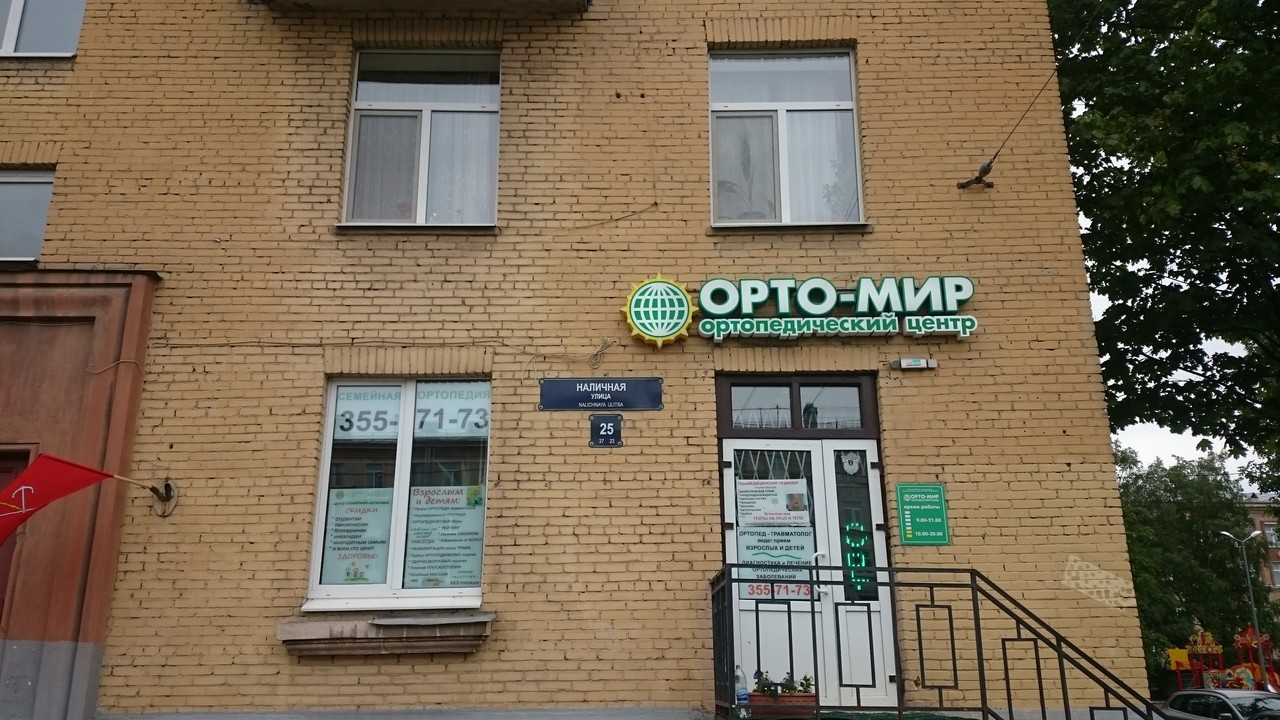door: (720, 436, 892, 712)
signboard: (623, 273, 978, 340)
window: (314, 373, 484, 607), (710, 45, 862, 227), (347, 46, 499, 222)
